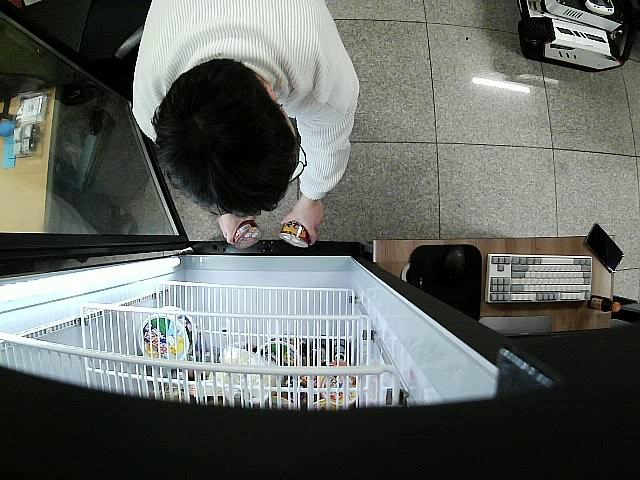00_hand: (281, 198, 326, 246), (215, 209, 254, 244)
06_nuguri_S: (279, 221, 311, 249), (231, 221, 262, 249)
